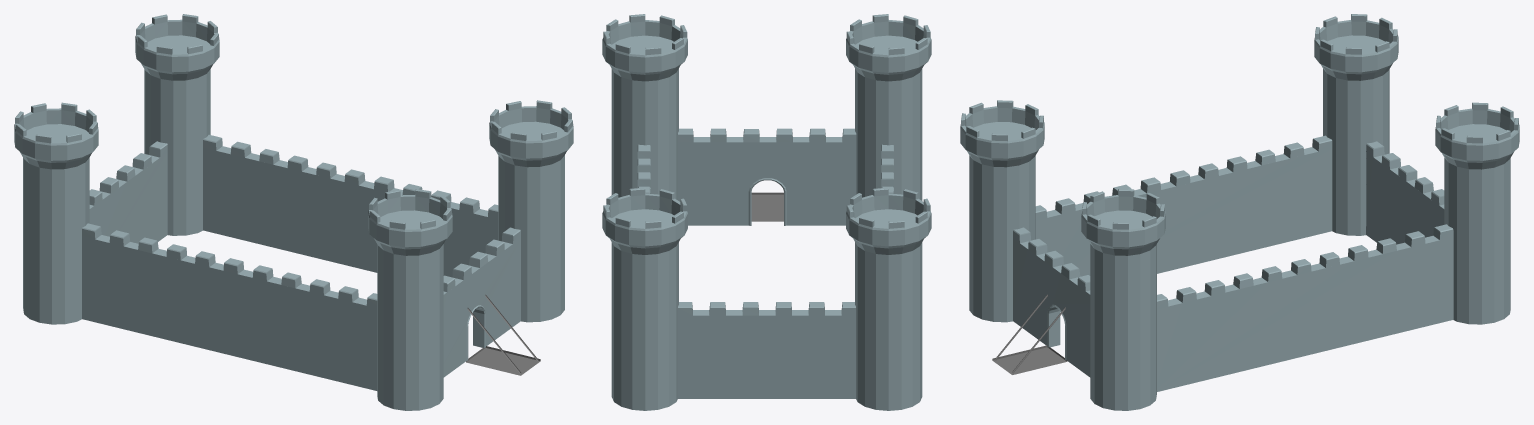
Rendered from 10YxF0_NaMa.glb.
3 renders of one model, left to right at view 1: azimuth 30°, elevation 25°; view 2: azimuth 150°, elevation 25°; view 3: azimuth 270°, elevation 25°, orthographic.
Visible parts, largest first — view 1: LongWall_Cube.001, Elevator_Bridge_Cube.007; view 2: LongWall_Cube.001, Elevator_Bridge_Cube.007; view 3: LongWall_Cube.001, Elevator_Bridge_Cube.007.
Part boxes in pixels (x1,y1,x2,y2): LongWall_Cube.001: (14,14,573,410); Elevator_Bridge_Cube.007: (466,294,540,375); LongWall_Cube.001: (602,14,931,410); Elevator_Bridge_Cube.007: (751,192,783,221); LongWall_Cube.001: (960,14,1519,410); Elevator_Bridge_Cube.007: (992,294,1067,374).
Size of the model in its own units: 2.36 by 1 by 2.65.
